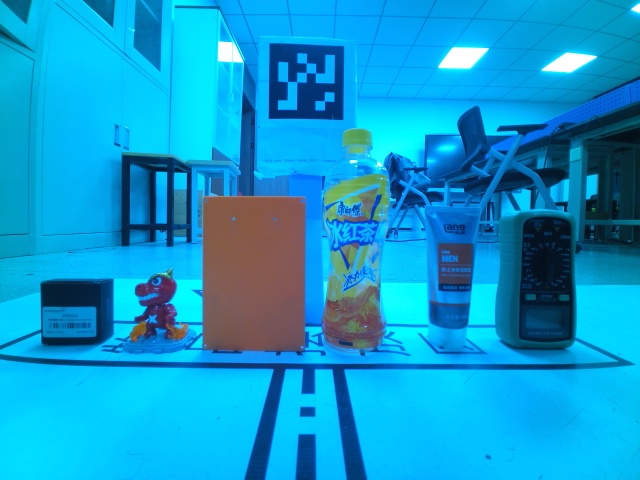banzi: (39, 277, 116, 346)
binghongcha: (123, 267, 198, 355)
dabao: (422, 203, 482, 351)
dianbiao: (322, 127, 391, 355)
hezi: (493, 208, 579, 351)
long: (201, 195, 307, 353)
